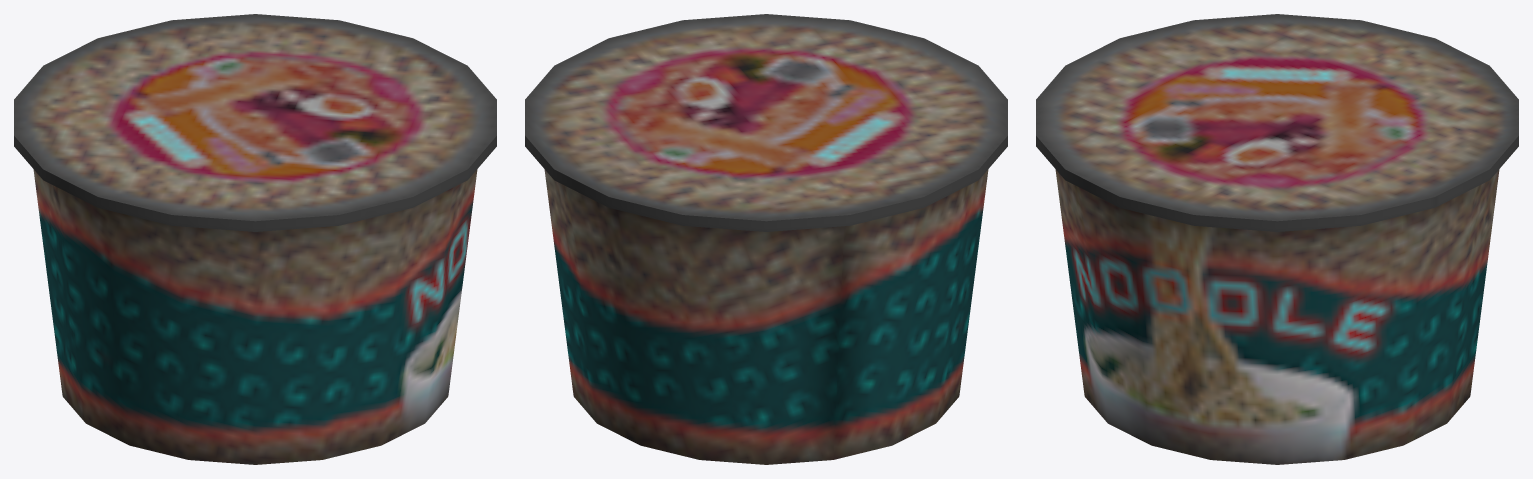
Rendered from hypercasual_prop015.FBX.
The picture shows the model from 3 angles, left to right: view 1: azimuth 30°, elevation 25°; view 2: azimuth 150°, elevation 25°; view 3: azimuth 270°, elevation 25°; orthographic projection.
Parts seen in each view (by area): view 1: hypercasual_prop015; view 2: hypercasual_prop015; view 3: hypercasual_prop015.
Part boxes in pixels (x1,y1,x2,y2): hypercasual_prop015: (14,14,496,464); hypercasual_prop015: (525,14,1007,464); hypercasual_prop015: (1036,14,1518,464).
Bounding box in the file's own units: 1.13 × 0.674 × 1.11.
Materials: 1 (1 with a texture image).
